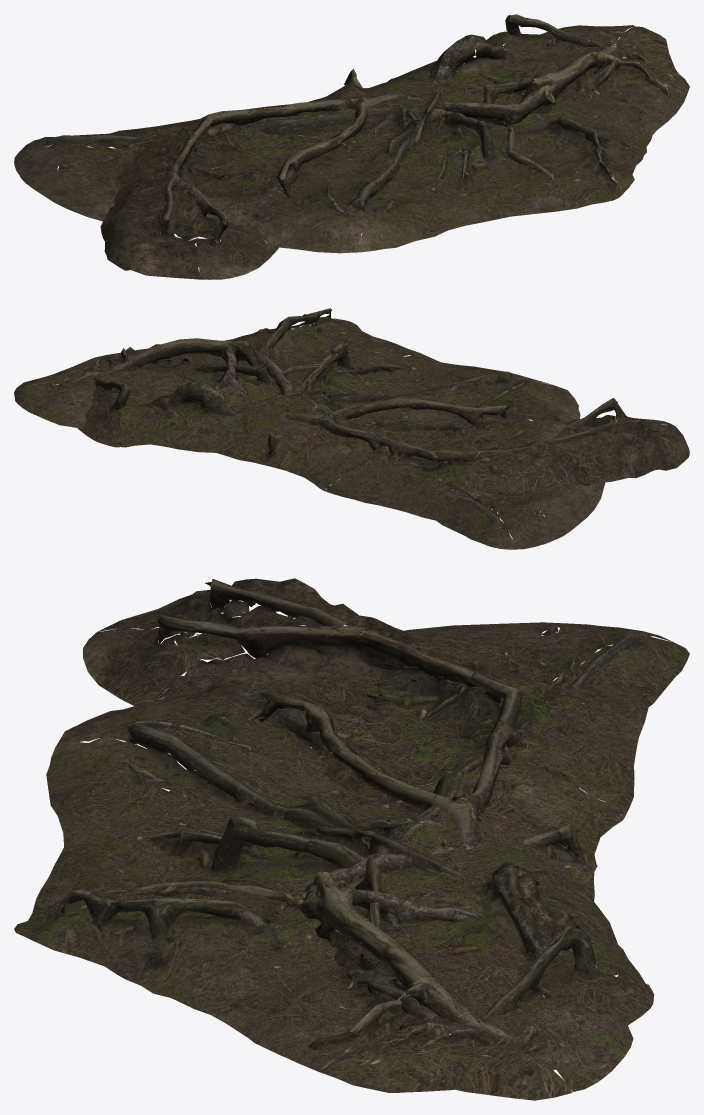
File: roots.glb
3 renders of one model, top to bottom at view 1: azimuth 30°, elevation 25°; view 2: azimuth 150°, elevation 25°; view 3: azimuth 270°, elevation 25°, orthographic. The views are drawn at different scales.
Visible parts, largest first — view 1: pine_roots_b, pine_roots_a; view 2: pine_roots_b, pine_roots_a; view 3: pine_roots_b, pine_roots_a.
Boxes of the visible parts, x1,y1,x2,y2 form: pine_roots_b: (14, 14, 689, 253); pine_roots_a: (100, 25, 685, 279); pine_roots_b: (59, 308, 605, 549); pine_roots_a: (14, 338, 689, 503); pine_roots_b: (14, 622, 689, 1092); pine_roots_a: (83, 578, 633, 1100).
Size of the model in its own units: 1.74 by 0.1466 by 0.9933.
2 materials, 2 textured.
